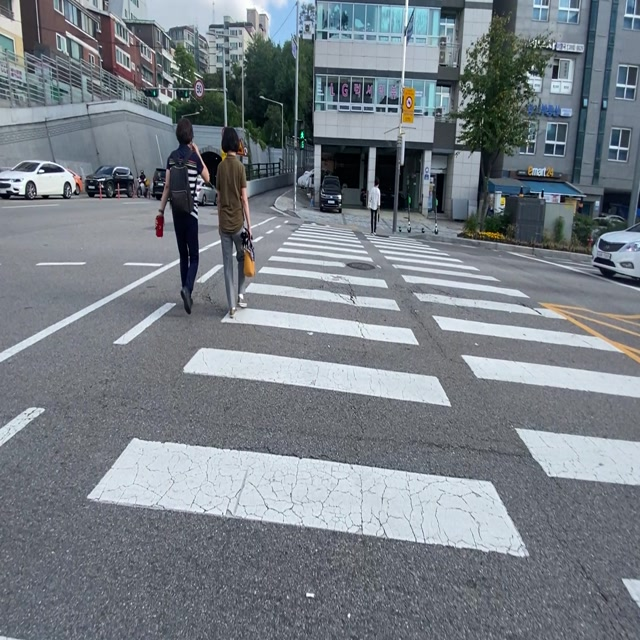Pedestrian: (156, 119, 209, 311), (216, 128, 250, 316)
Vehicle: (0, 160, 79, 198), (592, 222, 639, 278), (85, 165, 134, 197), (319, 176, 341, 211), (196, 183, 216, 204)
